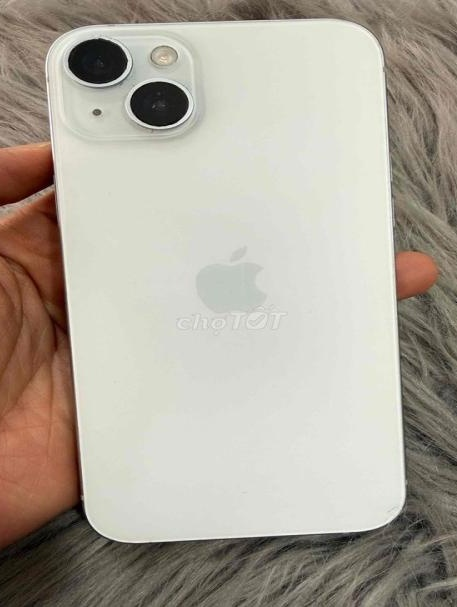scratch: (60, 31, 192, 137), (372, 493, 405, 524)
